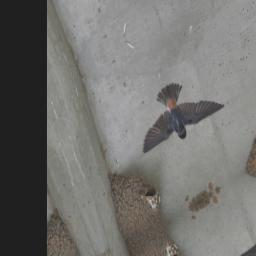Swallow: (127, 56, 230, 167)
